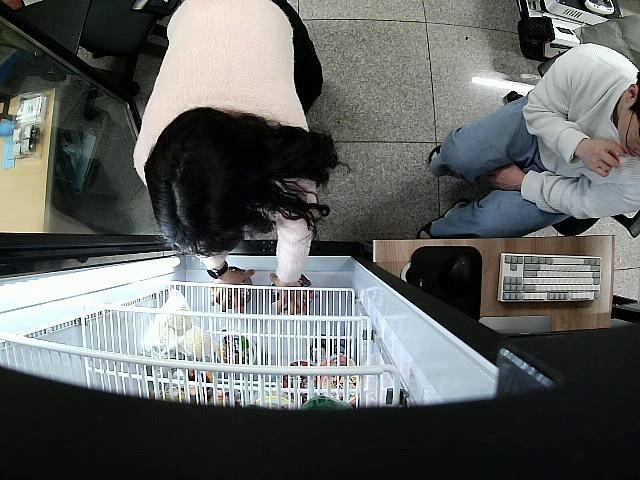07_buldak_L: (210, 266, 254, 311), (266, 274, 311, 309)
